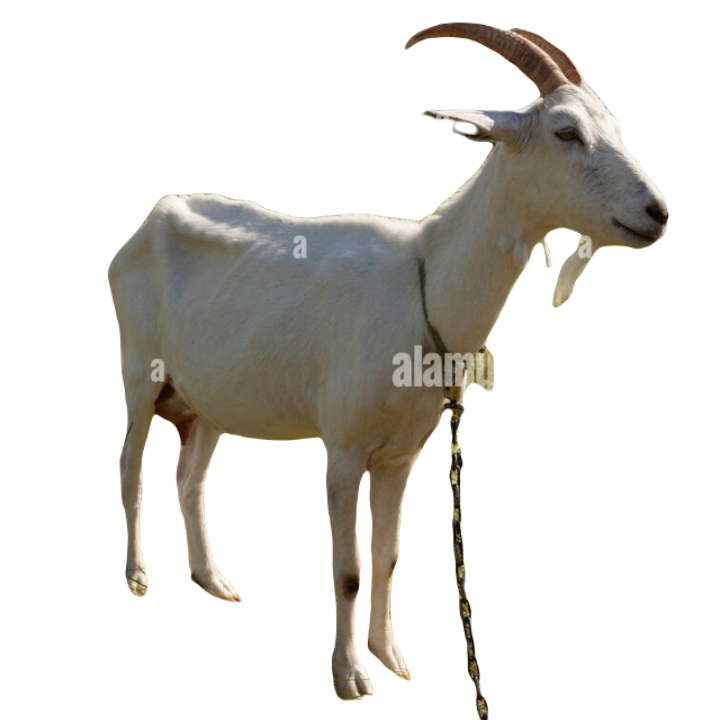Goat: (106, 22, 669, 701)
